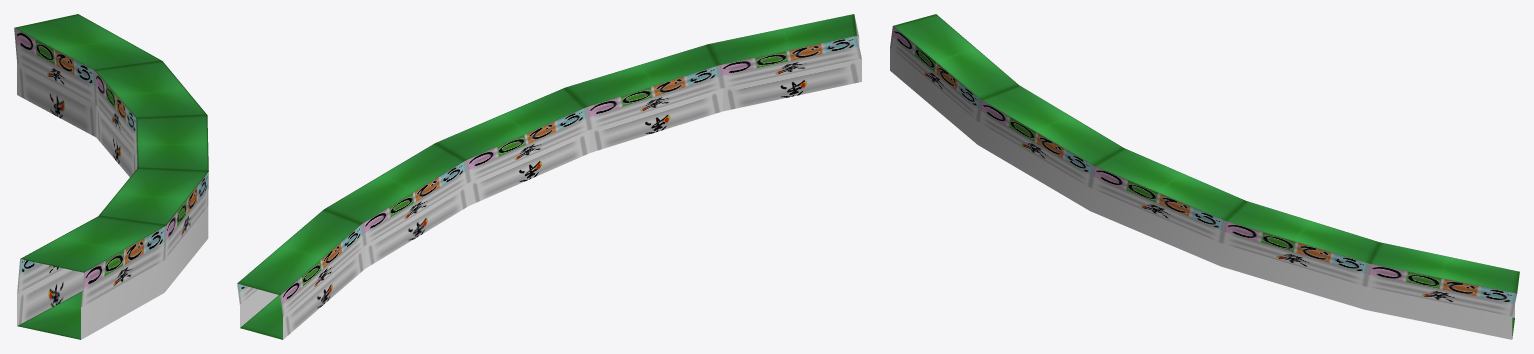
The model's file is CourseSummer_Wall_R_4.fbx.
3 renders of one model, left to right at view 1: azimuth 30°, elevation 25°; view 2: azimuth 150°, elevation 25°; view 3: azimuth 270°, elevation 25°, orthographic. The views are drawn at different scales.
Parts seen in each view (by area): view 1: polySurface89; view 2: polySurface89; view 3: polySurface89.
Part boxes in pixels (left/top/right/bottom): polySurface89: left=14, top=14, right=208, bottom=339; polySurface89: left=237, top=14, right=861, bottom=339; polySurface89: left=890, top=14, right=1519, bottom=339.
Bounding box in the file's own units: 14.97 × 6.98 × 24.31.
Materials: 1 (1 with a texture image).
